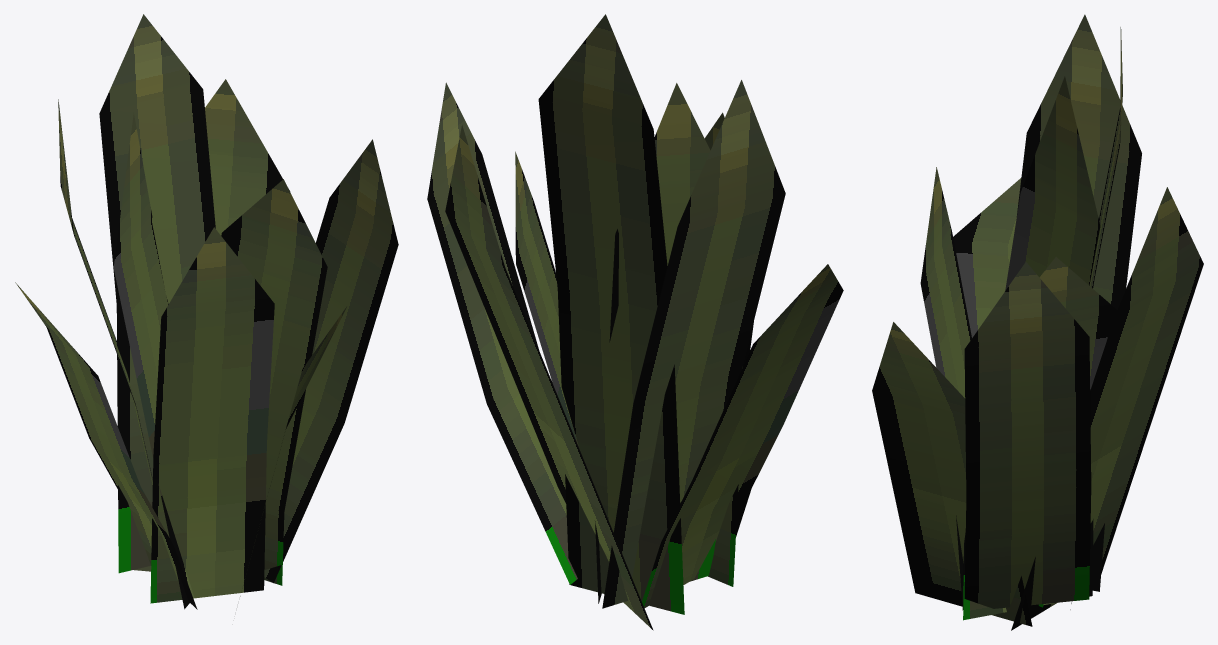
Rendered from plants_un_plant01.gltf.
The picture shows the model from 3 angles, left to right: view 1: azimuth 30°, elevation 25°; view 2: azimuth 150°, elevation 25°; view 3: azimuth 270°, elevation 25°; orthographic projection. The views are drawn at different scales.
Visible parts, largest first — view 1: plants_un_plant01; view 2: plants_un_plant01; view 3: plants_un_plant01.
Boxes of the visible parts, x1,y1,x2,y2 form: plants_un_plant01: (15,14,398,609); plants_un_plant01: (427,14,843,630); plants_un_plant01: (872,14,1203,630).
Size of what is drawn, in the model's own units: 0.6116 by 0.9179 by 0.4767.
Materials: 1 (1 with a texture image).
